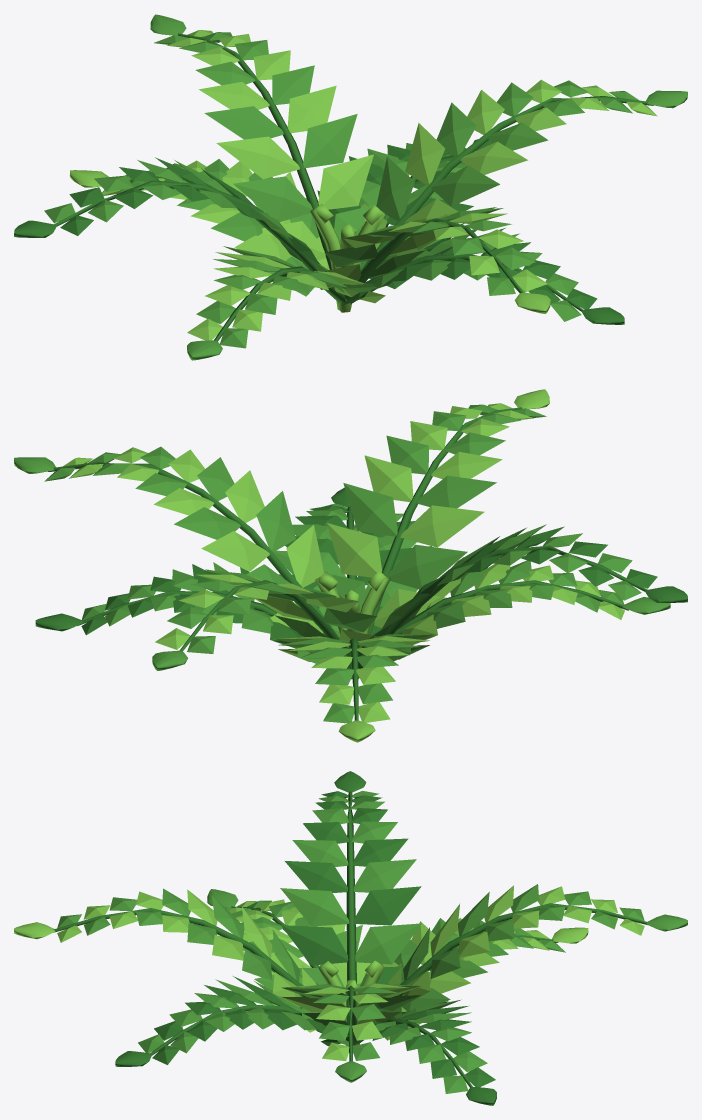
The model's file is Fern.glb.
The picture shows the model from 3 angles, top to bottom: view 1: azimuth 30°, elevation 25°; view 2: azimuth 150°, elevation 25°; view 3: azimuth 270°, elevation 25°; orthographic projection. The views are drawn at different scales.
Visible parts, largest first — view 1: Sway; view 2: Sway; view 3: Sway.
Part boxes in pixels (x1=…): Sway: x1=14, y1=14, x2=687, y2=360; Sway: x1=14, y1=389, x2=687, y2=742; Sway: x1=14, y1=771, x2=687, y2=1105.
Bounding box in the file's own units: 4.22 × 1.08 × 4.23.
Materials: 1 (1 with a texture image).
